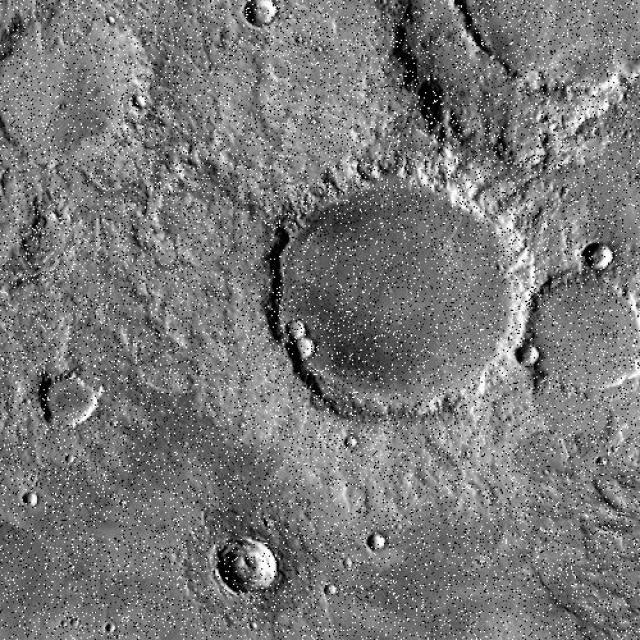crater: (0, 0, 233, 285), (267, 177, 528, 430), (0, 438, 99, 635), (0, 296, 92, 454), (0, 539, 95, 640), (0, 569, 79, 640), (205, 587, 310, 640), (512, 592, 618, 640), (0, 589, 61, 640)
